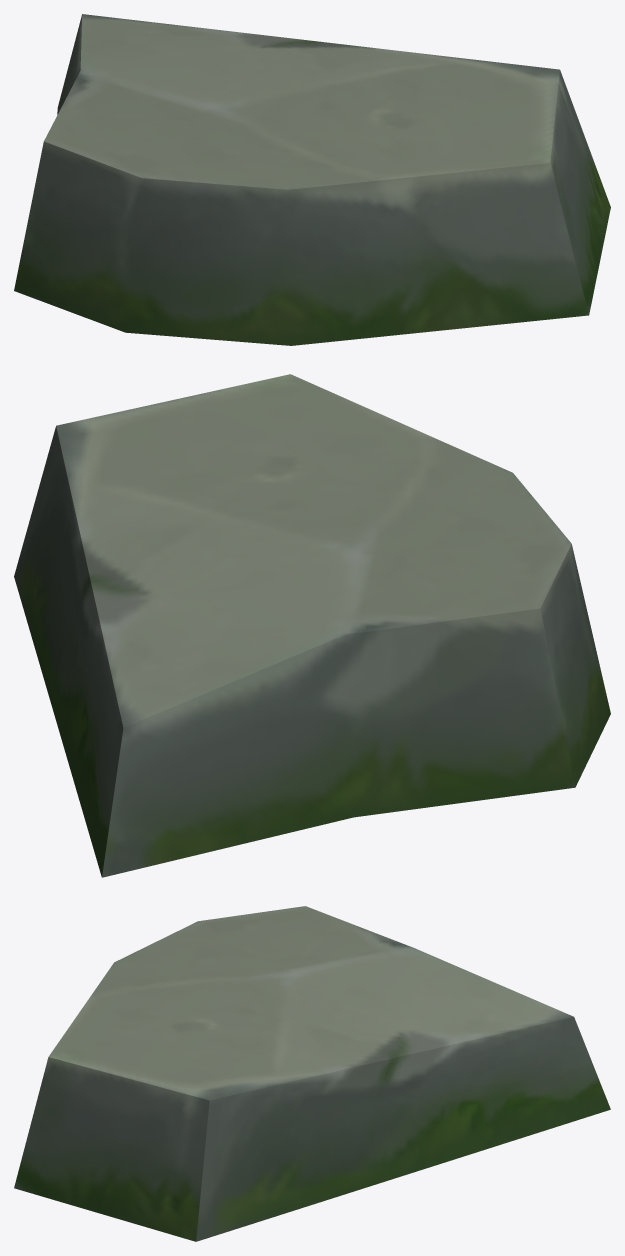
Rendered from scene_lawennushandao_stone01.FBX.
3 views of the same model, one above another, from view 1: azimuth 30°, elevation 25°; view 2: azimuth 150°, elevation 25°; view 3: azimuth 270°, elevation 25° (orthographic). The views are drawn at different scales.
Visible parts, largest first — view 1: scene_lawennushandao_stone01; view 2: scene_lawennushandao_stone01; view 3: scene_lawennushandao_stone01.
Part boxes in pixels (x1,y1,x2,y2): scene_lawennushandao_stone01: (14, 14, 610, 345); scene_lawennushandao_stone01: (14, 374, 610, 877); scene_lawennushandao_stone01: (14, 906, 610, 1241).
Size of the model in its own units: 89.31 by 22.81 by 100.
